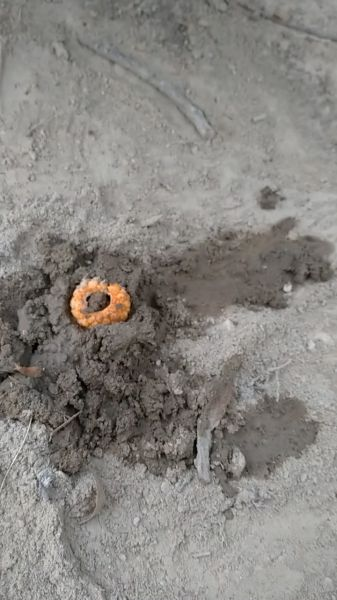eggs: (64, 272, 135, 334)
